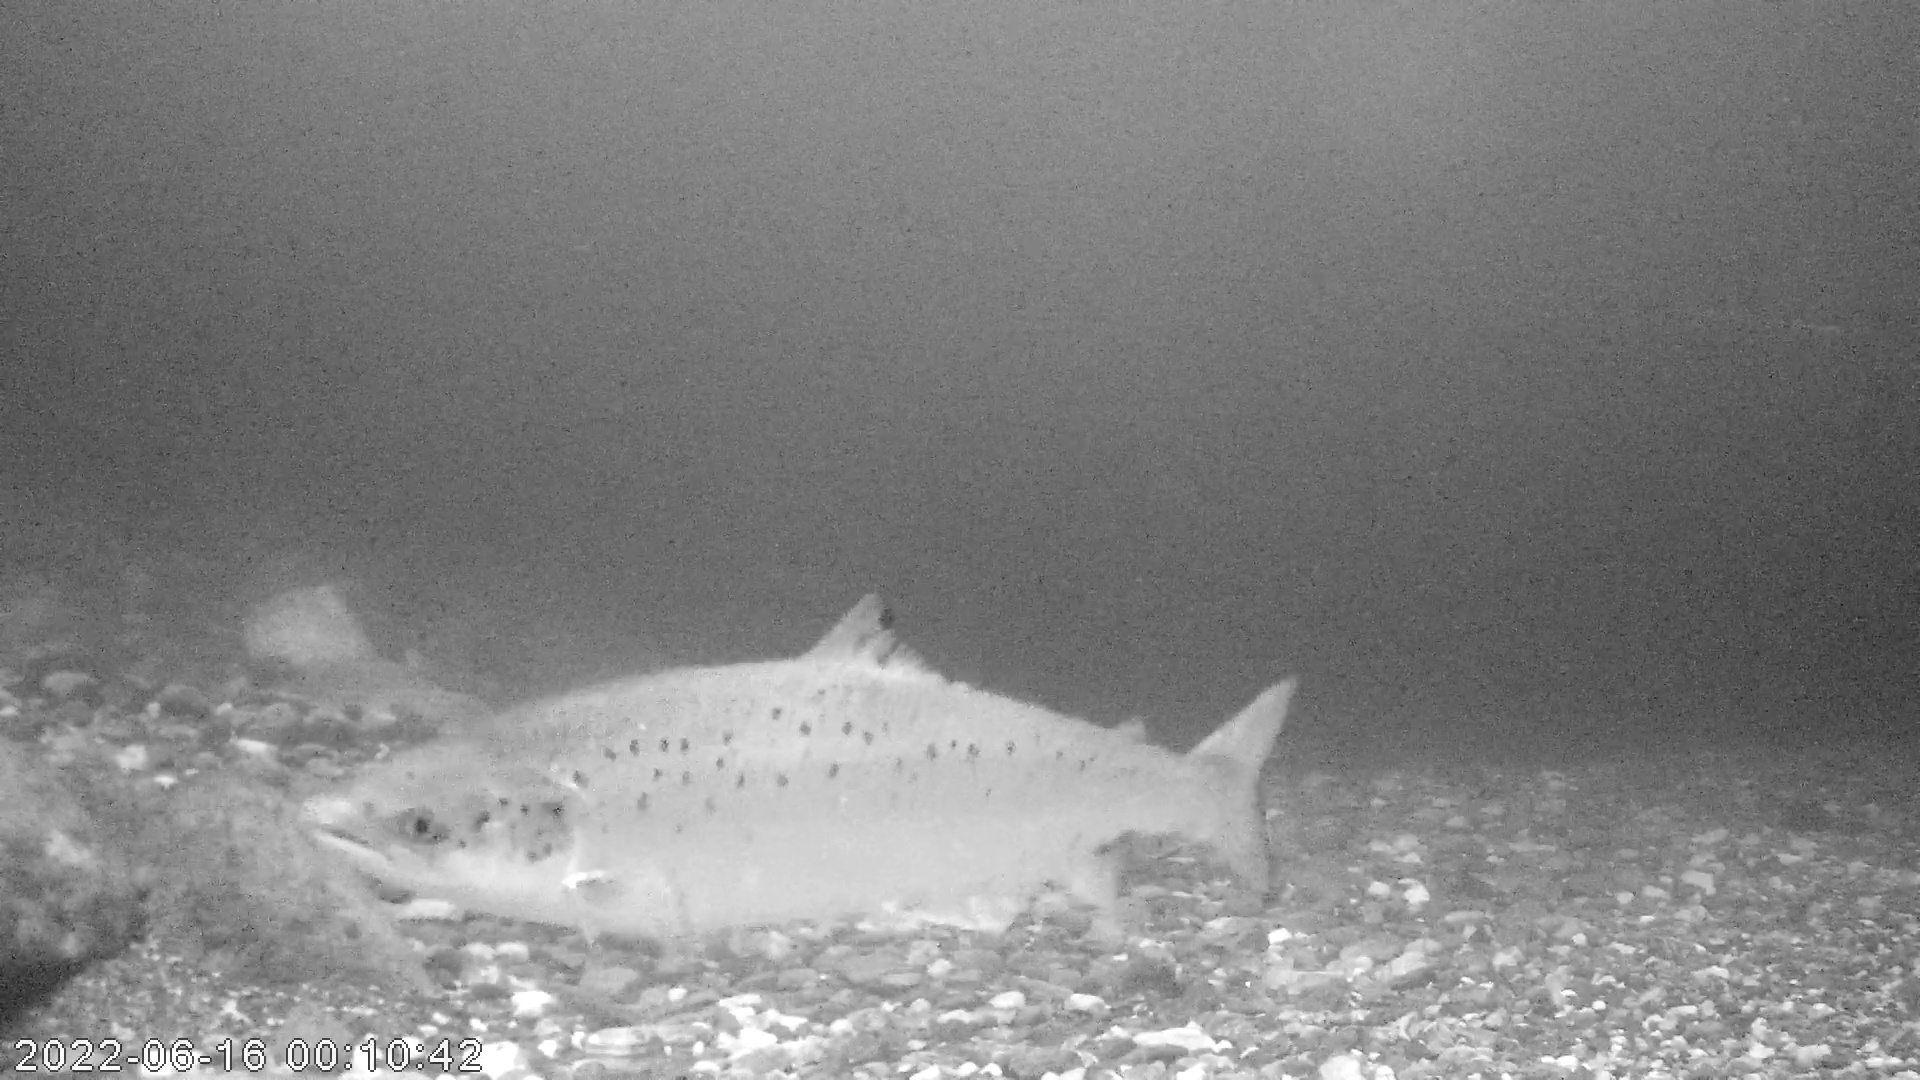salmon: (294, 589, 1304, 945)
